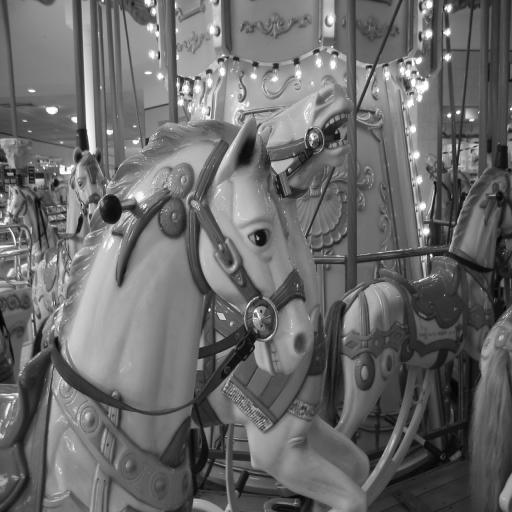Horse: (0, 80, 512, 511)
